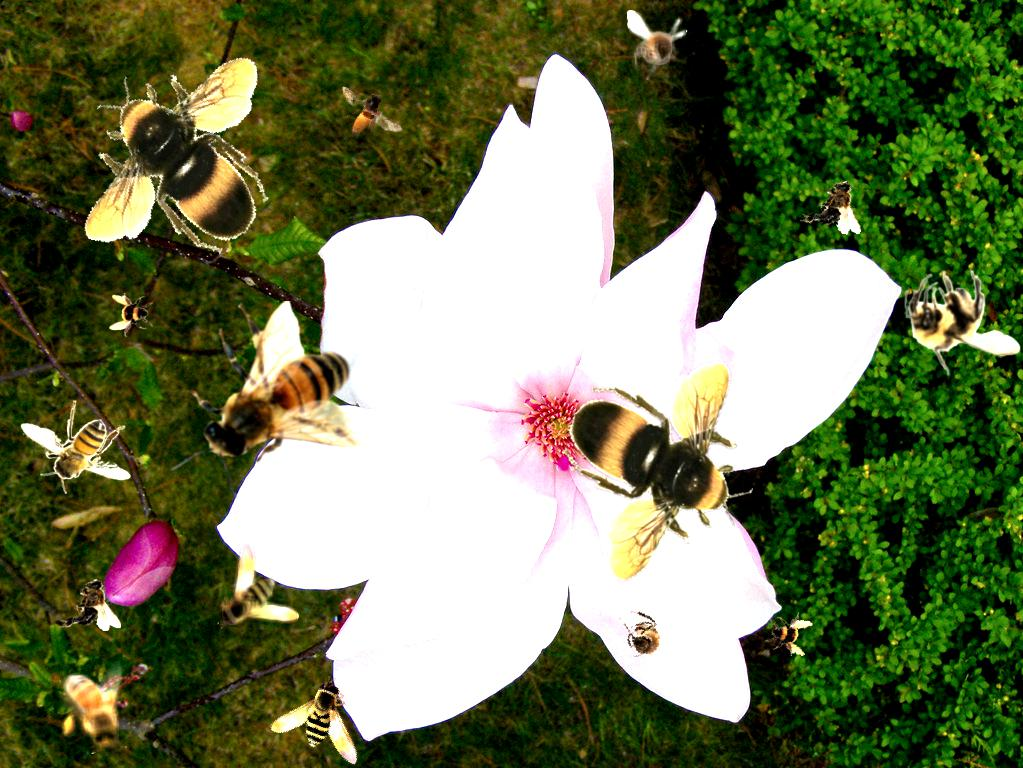Bee: (59, 19, 307, 286), (562, 362, 753, 582), (170, 301, 374, 500), (903, 267, 1022, 378), (264, 673, 382, 768), (20, 400, 131, 494), (604, 598, 693, 682), (217, 541, 299, 629), (326, 69, 406, 156), (59, 661, 127, 754), (798, 172, 871, 238), (627, 10, 688, 80), (59, 578, 121, 631), (763, 607, 815, 659), (109, 293, 153, 337)
